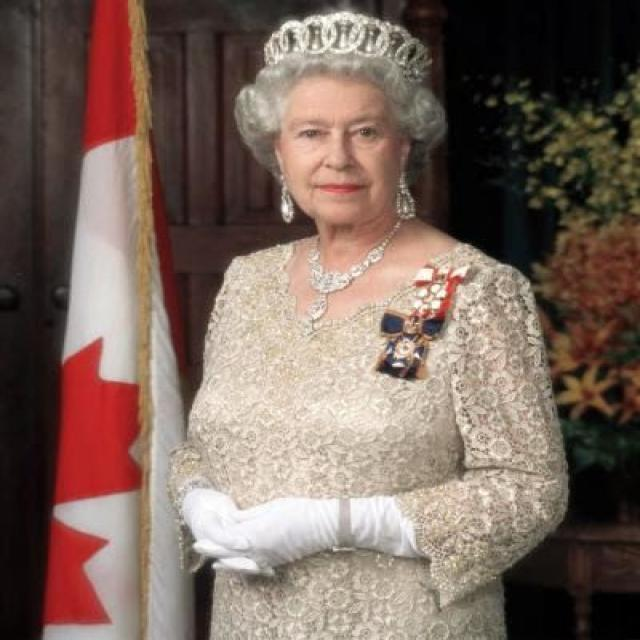Earring: (378, 169, 426, 233), (268, 183, 309, 233)
